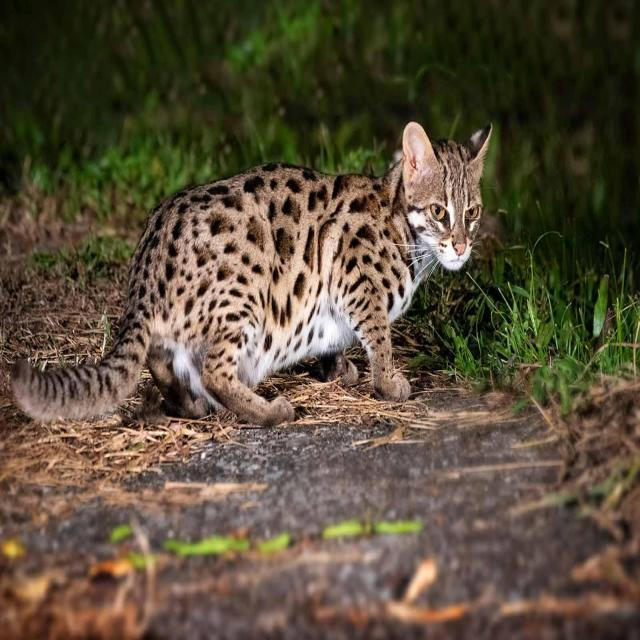leopard: (36, 138, 594, 402)
